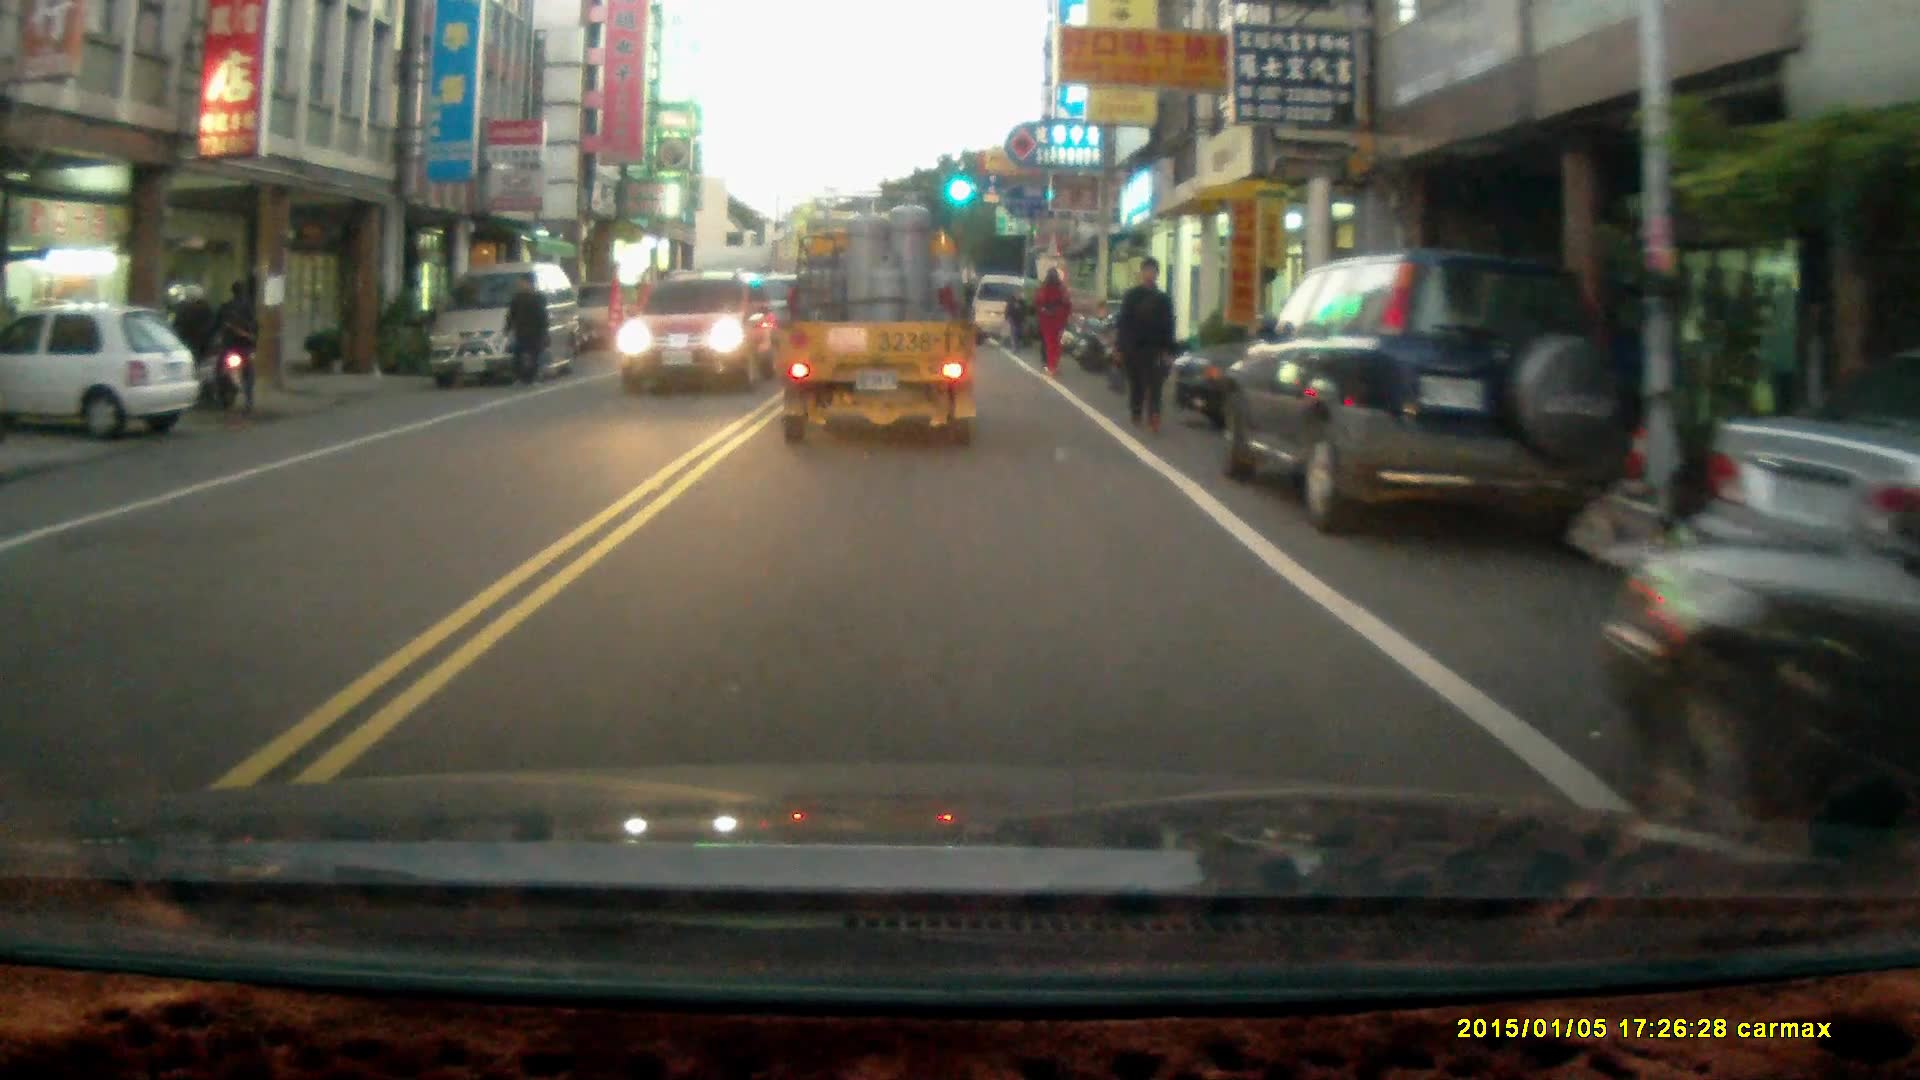pedestrian: (1113, 251, 1180, 432), (215, 273, 262, 405), (502, 271, 550, 392), (1032, 262, 1070, 374), (1001, 284, 1031, 353)
rider: (153, 278, 240, 411)
vehicle: (1222, 246, 1634, 539), (1605, 486, 1920, 860), (773, 189, 981, 453), (1, 304, 208, 447), (426, 261, 586, 383), (617, 274, 767, 392)
